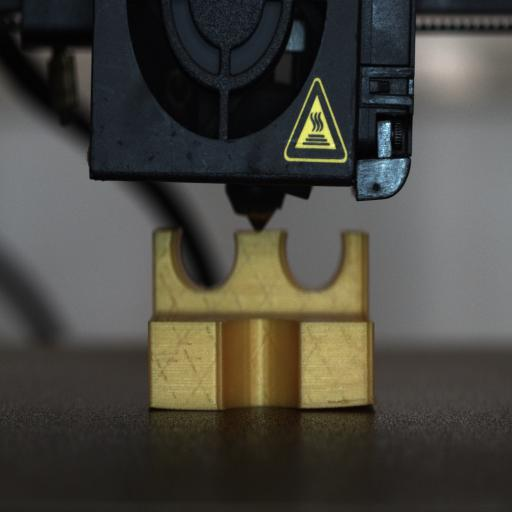warp: (335, 388, 383, 415)
